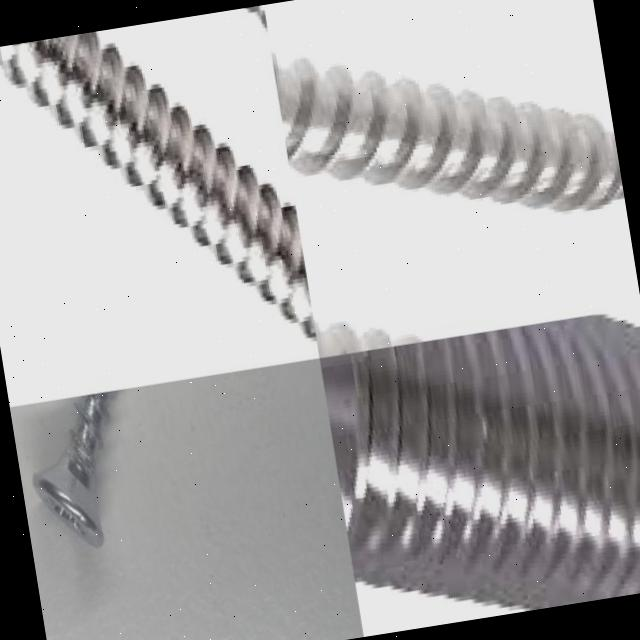Screw: (0, 29, 319, 356), (320, 314, 640, 611), (273, 57, 625, 214), (33, 390, 116, 549)
